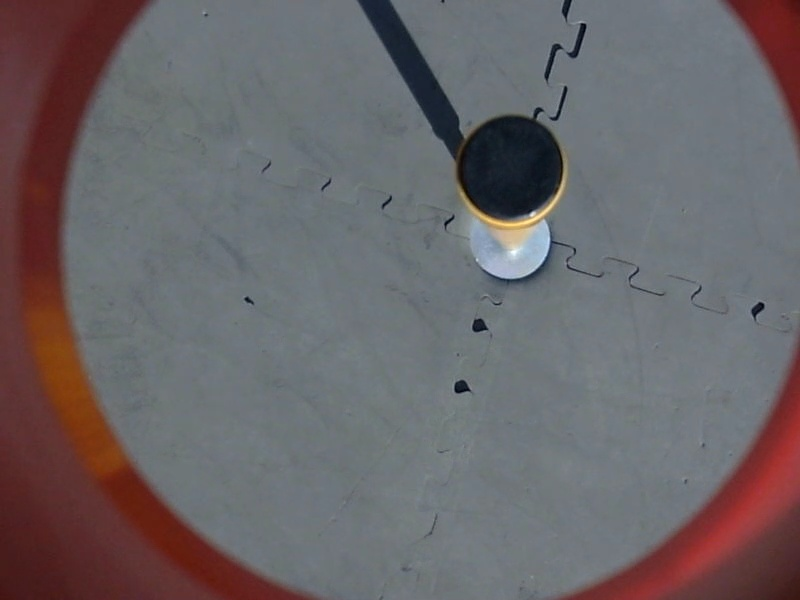tip: (452, 111, 572, 228)
